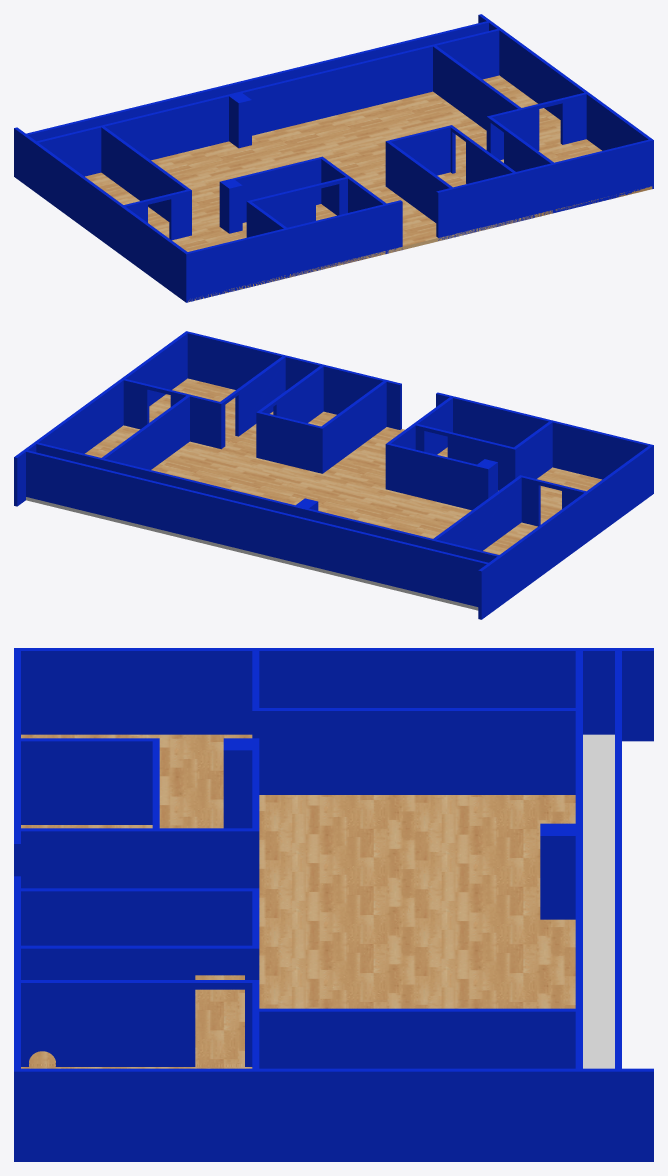
File: Food_Game_Level_1_Mouse_Hole_Fix.fbx
The picture shows the model from 3 angles, top to bottom: view 1: azimuth 30°, elevation 25°; view 2: azimuth 150°, elevation 25°; view 3: azimuth 270°, elevation 25°; orthographic projection. The views are drawn at different scales.
Parts seen in each view (by area): view 1: Inner_Walls, Floor; view 2: Inner_Walls, Floor; view 3: Inner_Walls, Floor.
Part boxes in pixels (x1=…): Inner_Walls: x1=14, y1=14, x2=653, y2=302; Floor: x1=85, y1=75, x2=652, y2=301; Inner_Walls: x1=14, y1=331, x2=653, y2=619; Floor: x1=26, y1=378, x2=601, y2=610; Inner_Walls: x1=14, y1=648, x2=653, y2=1161; Floor: x1=21, y1=734, x2=614, y2=1068.
Bounding box in the file's own units: 14100 × 1400 × 9000.
